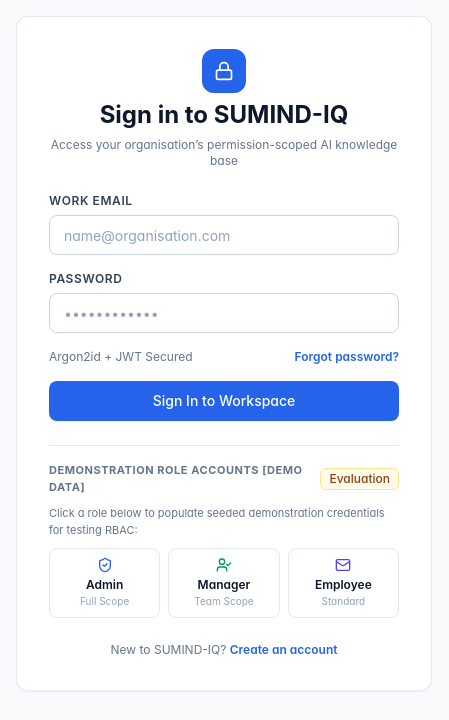
it: SUMIND-IQ Frontend Suite › validates LoginPage fields and displays quick demo role switcher buttons
This screenshot has width=449, height=720.
Check: the heading "Sign in to SUMIND-IQ" is shown, box [100,100,348,129]
Check: the text "Demonstration Role Accounts [DEMO DATA]" is shown, box [49,462,320,495]
Click the button "Sign In to Workspace" at (224, 401), box [49,381,399,421]
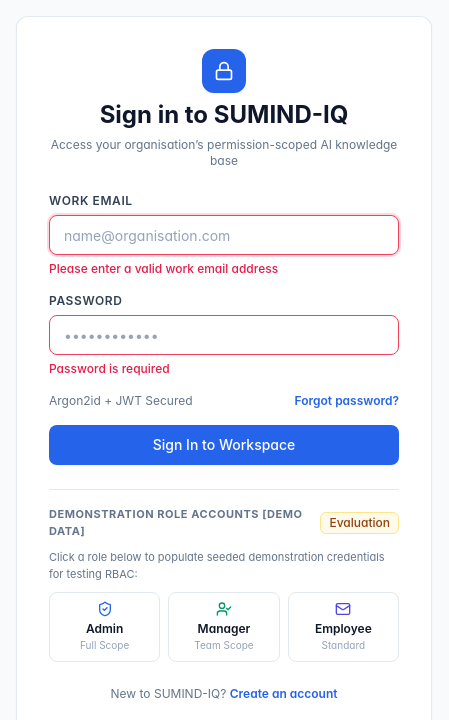
Check: the text "Please enter a valid work email address" is shown, box [49,261,278,276]
